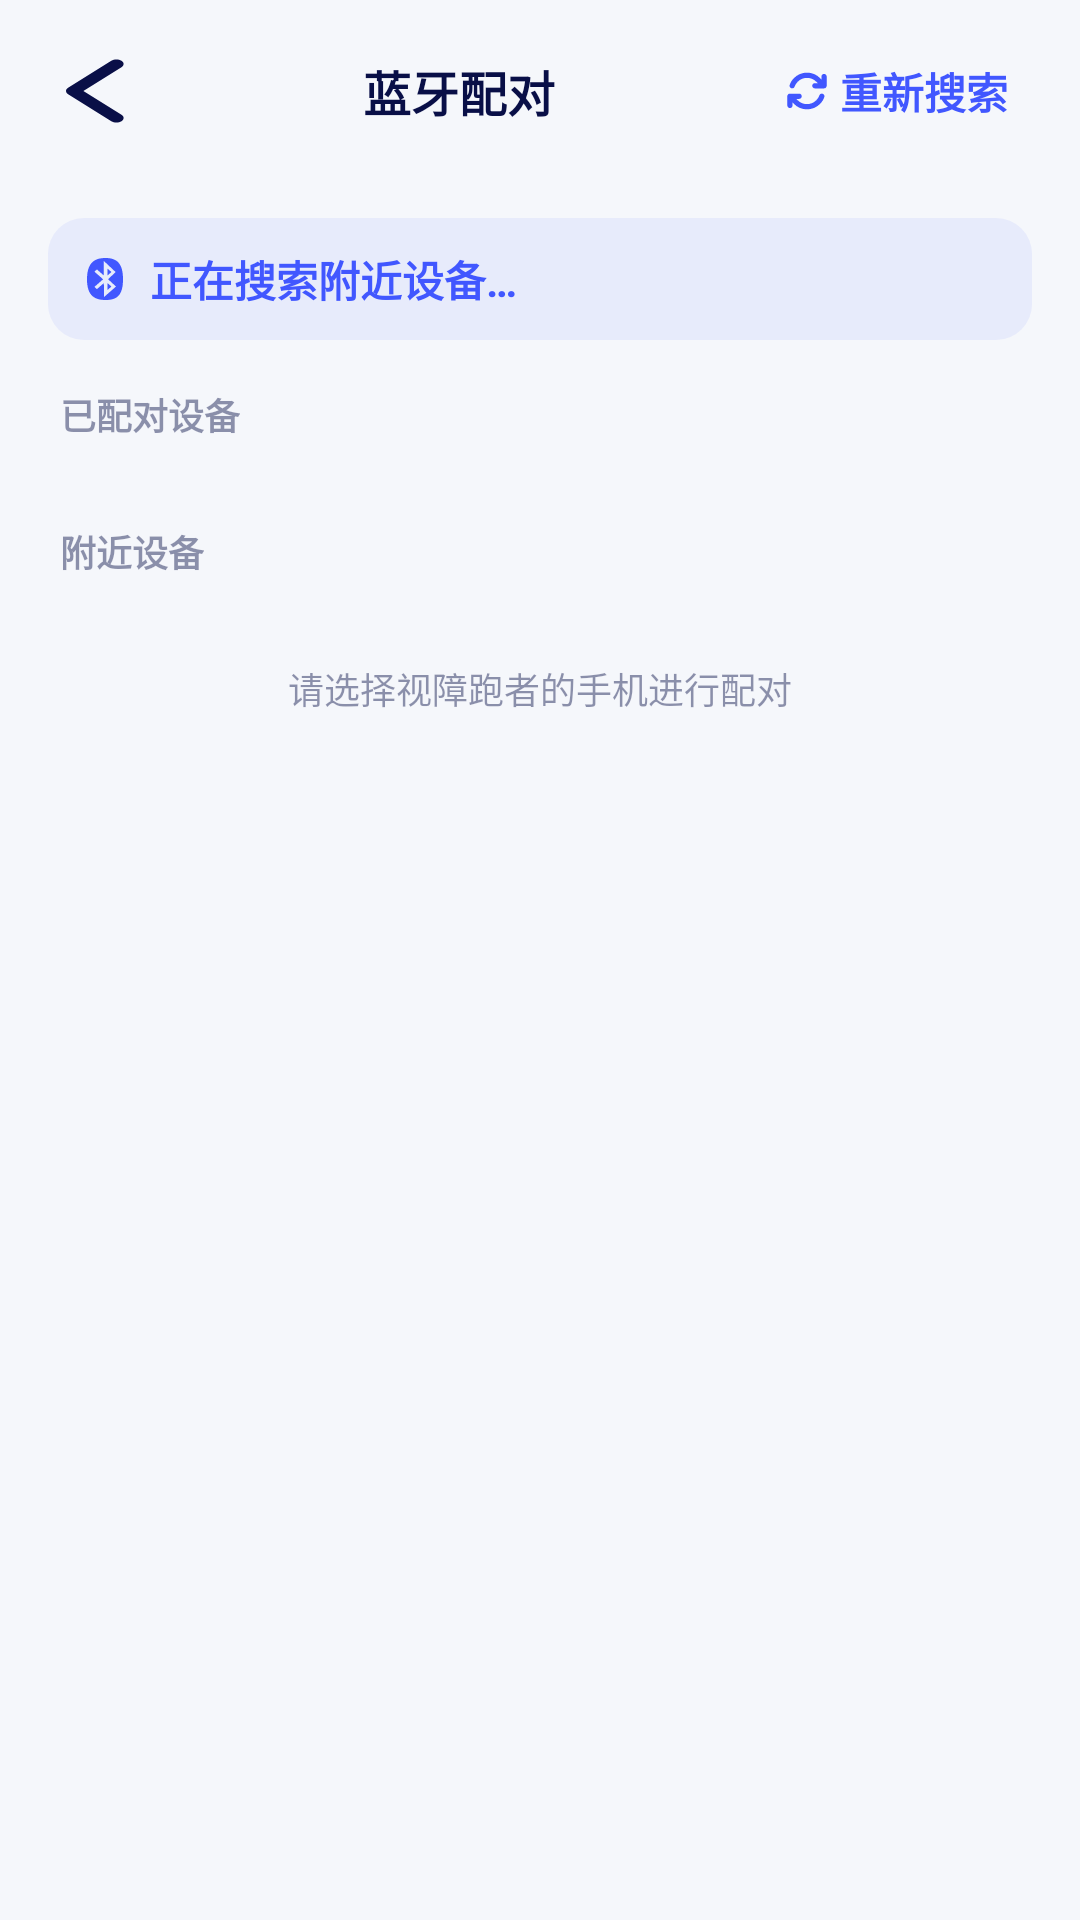

Named icons in this screenshot (1080w x 1920h) and their centers, point (x, y):
refresh: point (807, 91)
返回: point (95, 91)
